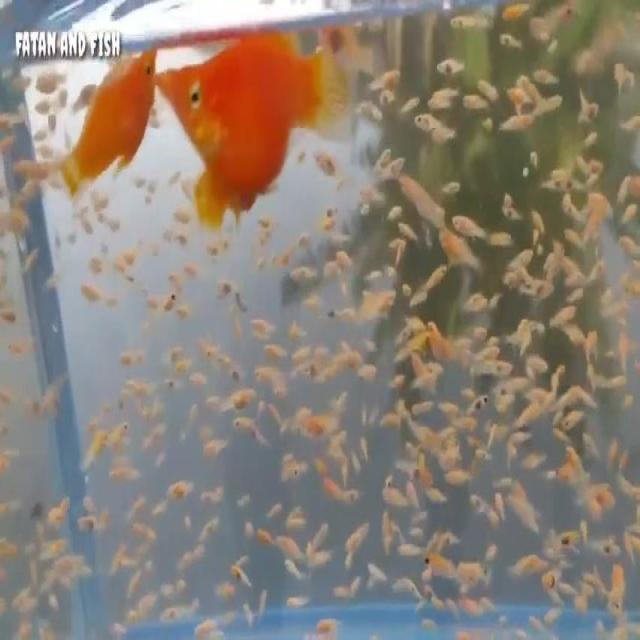PlatyFish: (148, 19, 362, 228), (64, 29, 164, 232)
